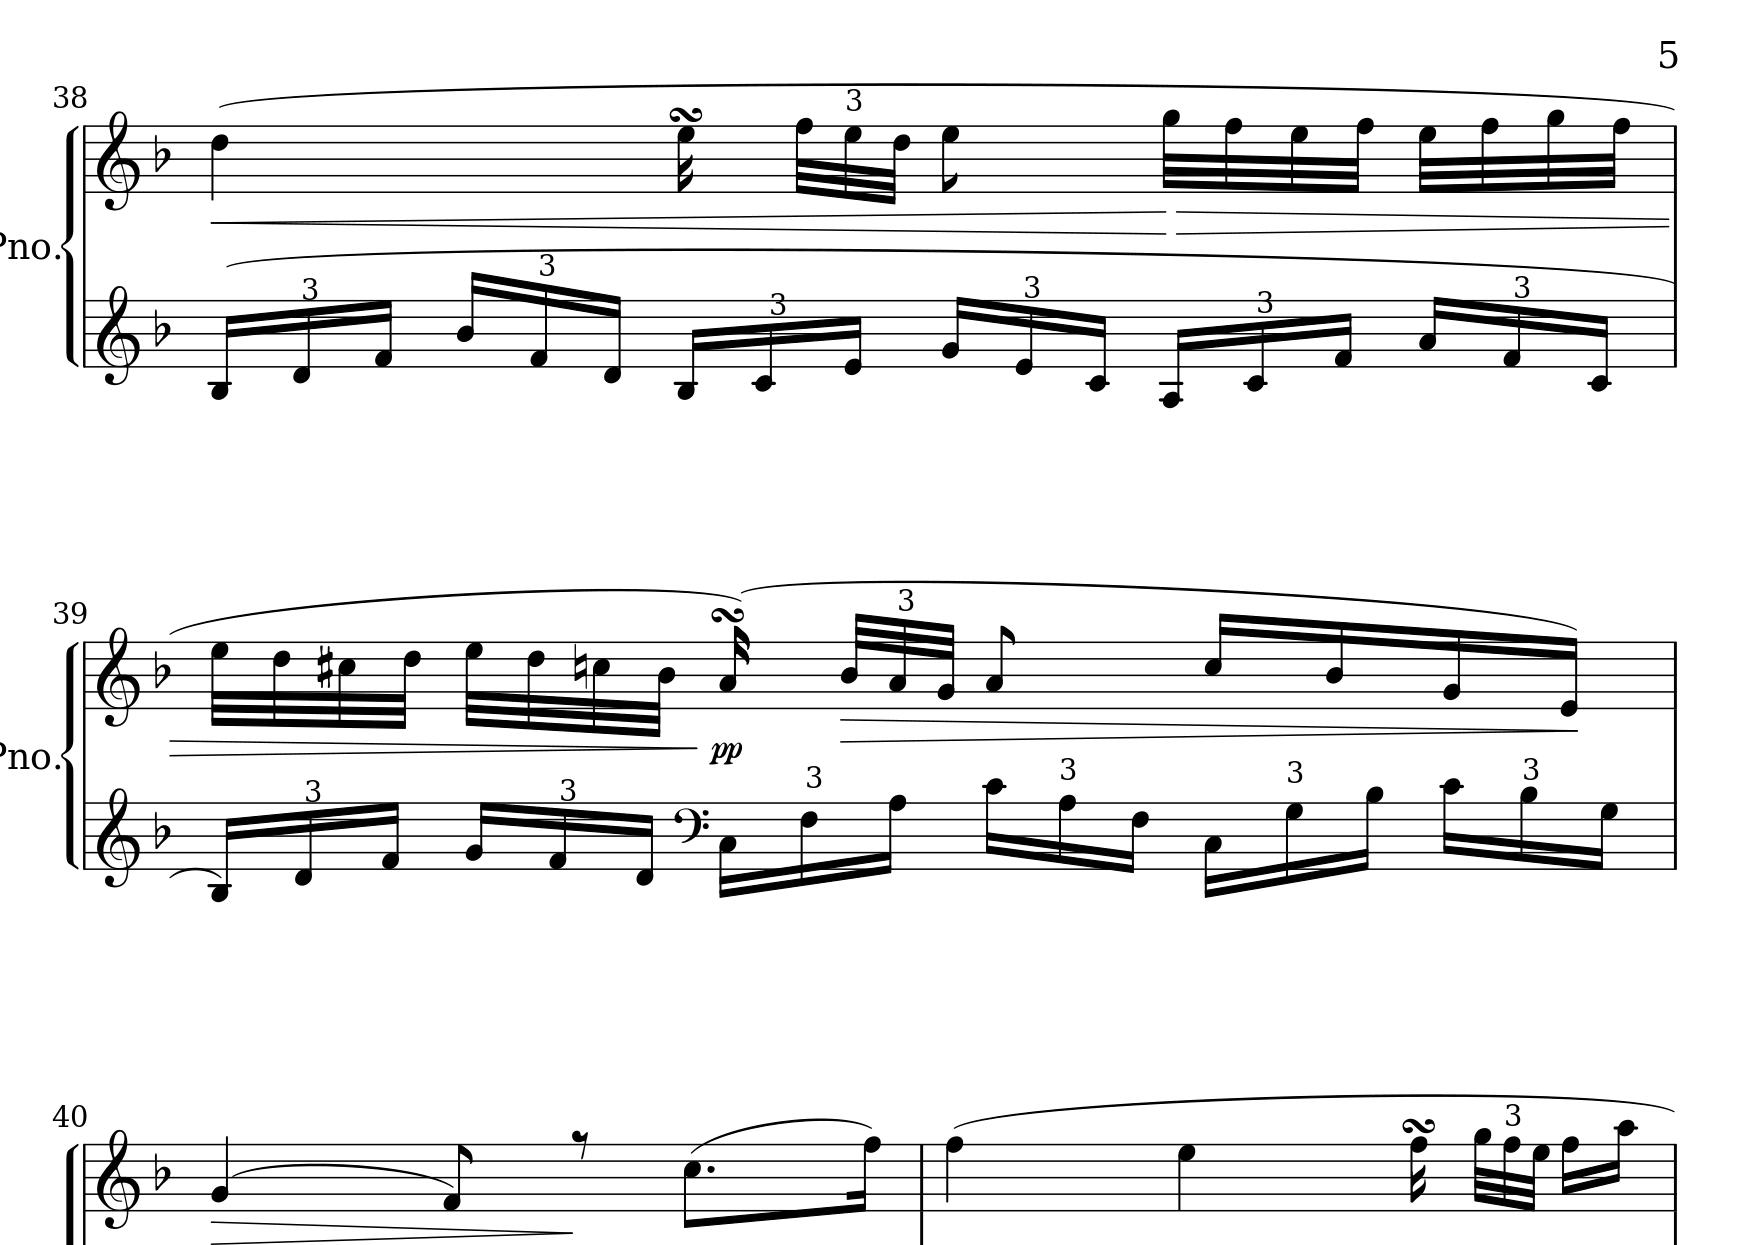0: (70, 1102, 88, 1129)
16_-1: (601, 292, 624, 384), (633, 800, 656, 887), (291, 298, 313, 385), (292, 800, 314, 887)
16_-2: (751, 298, 775, 393), (1085, 298, 1109, 393), (1588, 299, 1610, 393), (1243, 299, 1265, 392)
16_-3: (672, 298, 705, 402), (208, 298, 237, 402)
16_-4: (1156, 298, 1191, 410), (208, 800, 239, 904)
16_0: (841, 298, 865, 377), (1012, 298, 1036, 377), (1558, 635, 1579, 722)
16_1: (527, 280, 551, 371), (1501, 299, 1526, 371), (372, 296, 395, 371), (1331, 298, 1354, 369), (547, 800, 570, 870), (380, 800, 402, 870)
16_10: (1606, 1117, 1637, 1213), (1439, 776, 1464, 870), (982, 777, 1005, 870)
16_2: (939, 294, 968, 371), (464, 799, 491, 870), (1441, 627, 1464, 709)
16_3: (718, 622, 751, 709), (717, 800, 738, 899), (1202, 800, 1224, 899), (1416, 295, 1445, 369)
16_4: (454, 269, 484, 371), (1325, 618, 1348, 710)
16_5: (1203, 610, 1230, 707)
16_6: (1123, 799, 1150, 876), (798, 799, 819, 889)
16_7: (1590, 800, 1618, 872), (1283, 798, 1305, 887), (675, 123, 695, 195)
16_8: (848, 1135, 881, 1213), (877, 794, 906, 876), (1559, 1133, 1579, 1213), (1057, 792, 1077, 870), (1408, 1135, 1428, 1210)
16_9: (1354, 784, 1384, 873), (1517, 783, 1539, 870)
3: (1256, 287, 1274, 317), (1503, 1101, 1523, 1126), (51, 84, 70, 110), (768, 290, 787, 317), (1512, 274, 1531, 299), (301, 275, 319, 300), (896, 586, 915, 612), (845, 88, 862, 113), (1023, 274, 1040, 299), (51, 600, 69, 625), (1059, 756, 1077, 781), (1521, 756, 1539, 781), (1286, 759, 1303, 784), (805, 764, 822, 790), (305, 777, 322, 803), (559, 777, 575, 802)
32_2: (935, 620, 955, 710)
32_3: (885, 616, 910, 710)
32_4: (647, 639, 678, 738), (838, 610, 868, 709)
32_5: (336, 640, 358, 730), (592, 640, 612, 737)
32_6: (392, 639, 422, 730), (884, 124, 912, 206), (526, 640, 547, 733), (272, 639, 292, 732)
32_7: (209, 639, 230, 729), (464, 639, 485, 729), (1524, 1143, 1551, 1213), (842, 123, 864, 202), (1288, 123, 1310, 195), (1416, 123, 1438, 195)
32_8: (1345, 117, 1375, 195), (1602, 117, 1632, 195), (794, 117, 815, 199), (1478, 117, 1500, 195), (1224, 117, 1244, 195), (1501, 1135, 1521, 1213)
32_9: (1160, 106, 1182, 197), (1544, 106, 1566, 197), (1472, 1126, 1493, 1213)
4: (51, 1101, 69, 1130)
4_2: (209, 1133, 232, 1213)
4_6: (209, 124, 230, 203)
4_7: (1175, 1141, 1197, 1211)
4_8: (943, 1135, 965, 1213)
5: (1658, 36, 1680, 70)
8: (69, 84, 89, 110)
8_1: (442, 1141, 474, 1213)
8_3: (984, 622, 1015, 709)
8_5: (682, 1143, 702, 1230)
8_7: (939, 123, 960, 195)
9: (69, 598, 88, 625)
Brace: (61, 120, 80, 366), (61, 639, 80, 870)
Crescendo_hairpin: (212, 209, 1168, 237)
Diminuendo_hairpin: (838, 718, 1577, 745), (170, 738, 699, 755)
Fclef: (672, 800, 709, 869)
Flat: (151, 645, 171, 689), (151, 132, 171, 172), (152, 306, 171, 348), (152, 1149, 171, 1191), (152, 808, 171, 849)
Gclef: (94, 108, 140, 212), (94, 786, 140, 889), (94, 283, 139, 387), (96, 624, 140, 728), (96, 1126, 140, 1230)
Natural: (571, 641, 589, 691)
Pno: (1, 226, 50, 261), (1, 737, 50, 769)
Rests8: (570, 1126, 592, 1160)
Sharp: (315, 641, 334, 689)
Single_barline: (912, 1143, 931, 1210), (1666, 300, 1683, 366), (1667, 641, 1683, 707), (78, 127, 94, 191), (1667, 803, 1683, 868), (80, 1143, 94, 1211), (1667, 127, 1682, 193), (78, 641, 93, 707), (1668, 1143, 1682, 1211), (80, 300, 93, 366), (78, 802, 92, 868)
Slur: (168, 866, 220, 879)
Turn: (708, 605, 747, 624), (1400, 1116, 1437, 1135)
dot: (705, 1161, 718, 1176)
pp: (708, 738, 744, 765)
